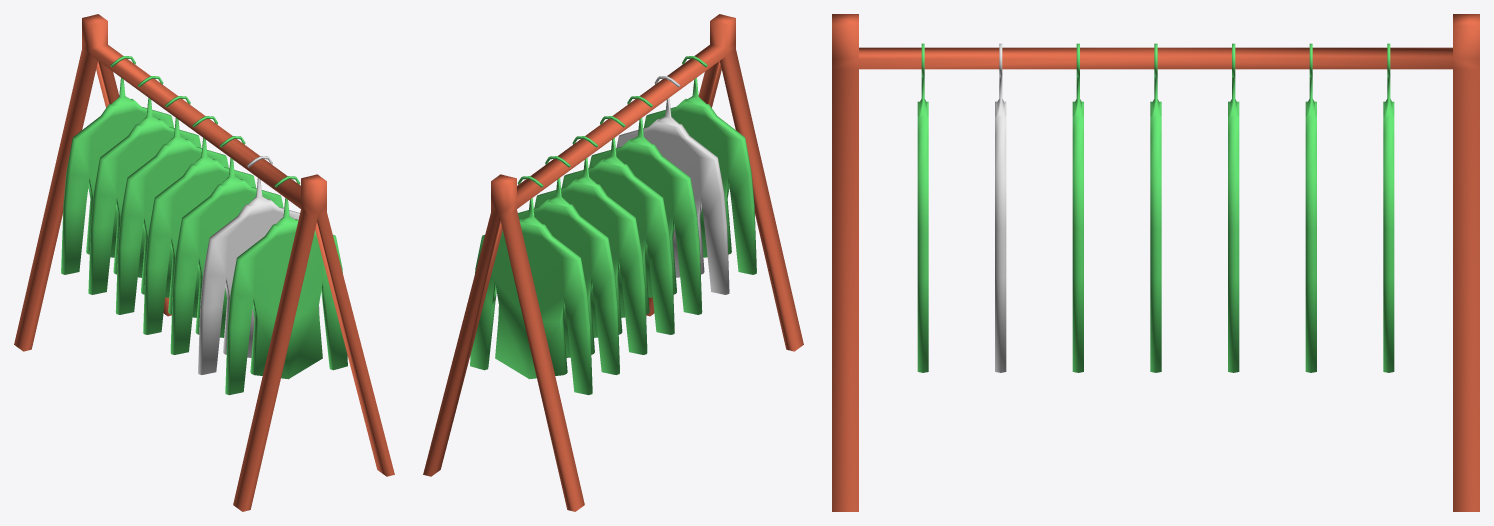
The model's file is StandDeRopaNivel1_low.fbx.
3 views of the same model, side by side, from view 1: azimuth 30°, elevation 25°; view 2: azimuth 150°, elevation 25°; view 3: azimuth 270°, elevation 25° (orthographic). The views are drawn at different scales.
Parts seen in each view (by area): view 1: Palo_low, Camisa1_low, Camisa3_low, Camisa4_low, Camisa6_low, Camisa5_low, Camisa7_low, Camisa2_low; view 2: Palo_low, Camisa7_low, Camisa5_low, Camisa4_low, Camisa2_low, Camisa3_low, Camisa1_low, Camisa6_low; view 3: Palo_low, Camisa1_low, Camisa2_low, Camisa3_low, Camisa4_low, Camisa5_low, Camisa6_low, Camisa7_low.
Part boxes in pixels (x1,y1,x2,y2): Palo_low: (14,14,394,511); Camisa1_low: (225,176,347,395); Camisa3_low: (170,136,283,354); Camisa4_low: (143,116,256,334); Camisa6_low: (88,76,201,294); Camisa5_low: (115,96,228,314); Camisa7_low: (61,56,173,274); Camisa2_low: (198,156,319,374); Palo_low: (423,14,803,511); Camisa7_low: (470,176,592,395); Camisa5_low: (534,136,647,354); Camisa4_low: (561,116,674,334); Camisa2_low: (616,76,729,294); Camisa3_low: (589,96,702,314); Camisa1_low: (644,56,756,274); Camisa6_low: (498,156,619,374); Palo_low: (832,14,1479,511); Camisa1_low: (917,43,928,372); Camisa2_low: (995,43,1006,372); Camisa3_low: (1072,43,1083,372); Camisa4_low: (1150,43,1161,372); Camisa5_low: (1228,43,1239,372); Camisa6_low: (1305,43,1316,372); Camisa7_low: (1383,43,1394,372).
Bounding box in the file's own units: 64.3 × 125 × 167.
